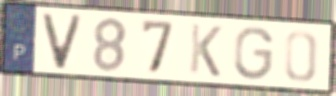0: (283, 29, 320, 84)
7: (139, 18, 179, 76)
8: (92, 15, 129, 74)
G: (231, 24, 276, 82)
K: (187, 21, 224, 79)
V: (40, 11, 85, 71)
